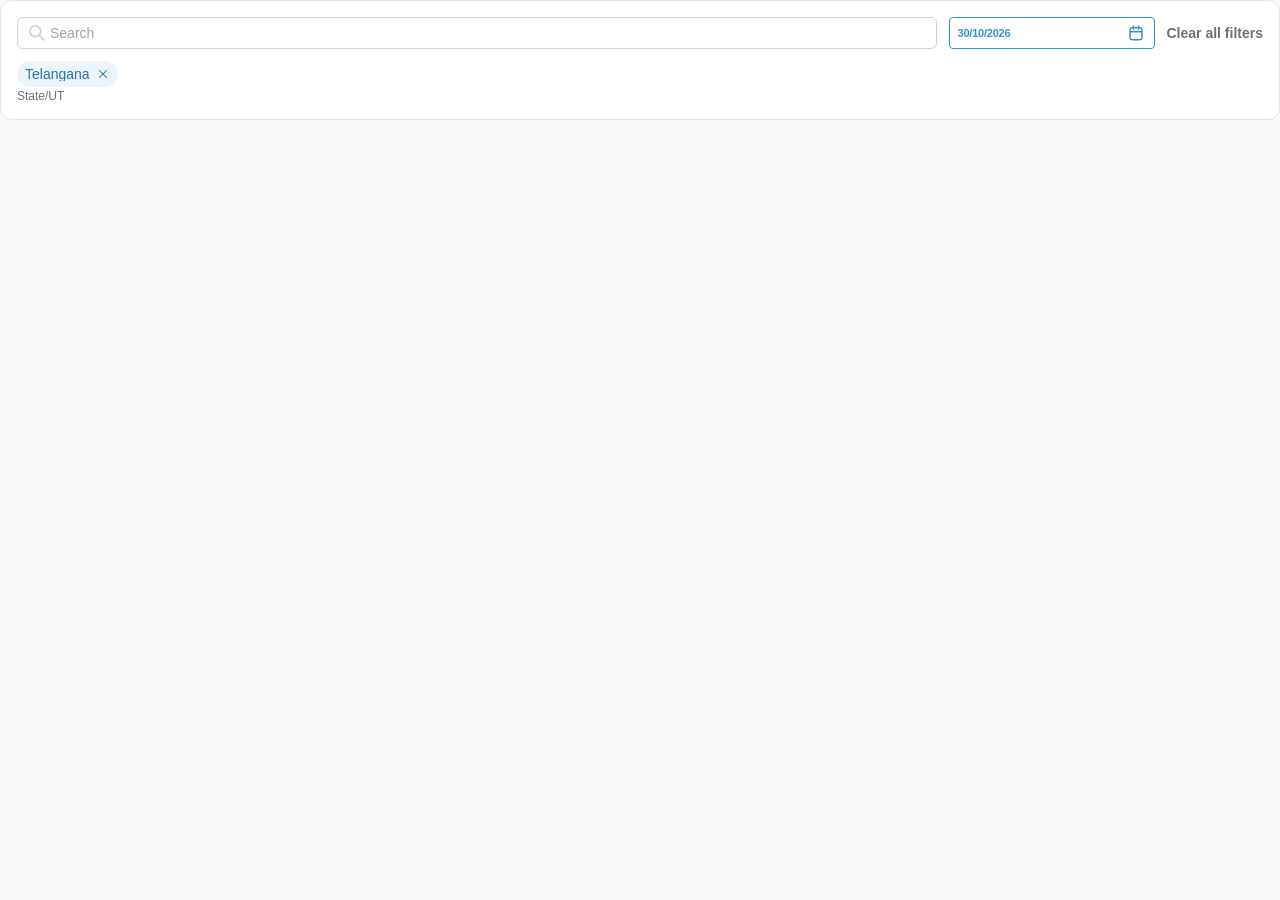
Test: DashboardFilters › shows districts in breadcrumb search panel when state is already selected
Focus the field: [477, 33] box 17,17 -> 936,49
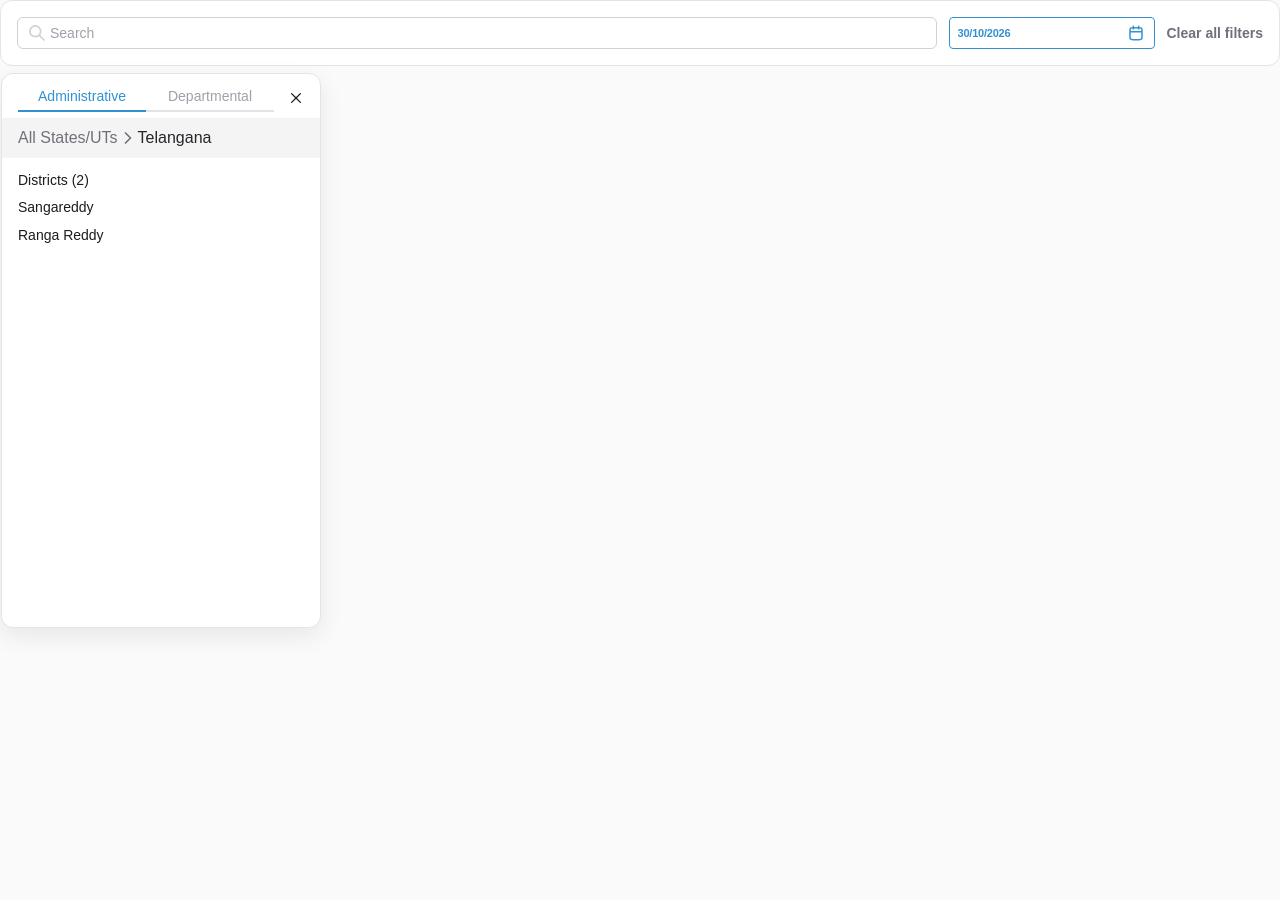
Result: the text "Districts (2)" is shown at 18,172 -> 89,188
Result: the text "Sangareddy" is shown at 18,199 -> 94,215
Result: the text "Ranga Reddy" is shown at 18,227 -> 104,243
